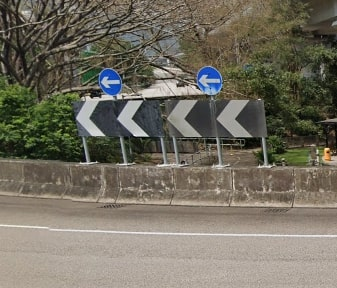Turn Left: (195, 65, 225, 96), (96, 70, 124, 96)
Turn Left(quick): (166, 98, 268, 141), (69, 99, 161, 141)
